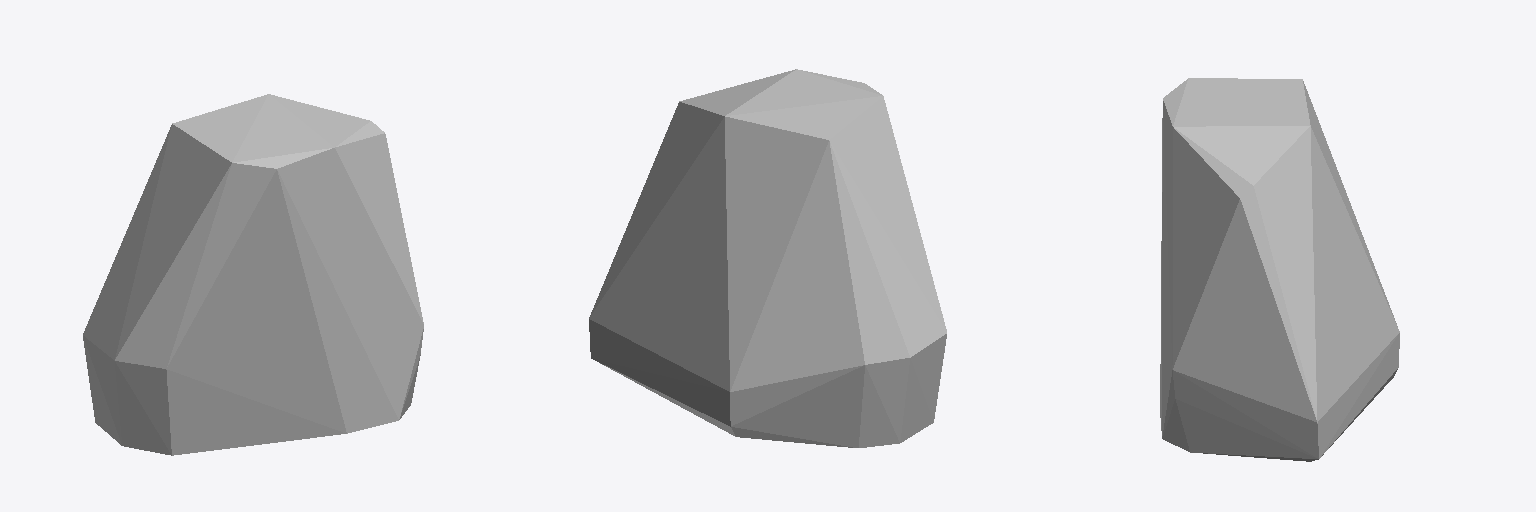
Rendered from raw_model_collision_0.obj.
3 renders of one model, left to right at view 1: azimuth 30°, elevation 25°; view 2: azimuth 150°, elevation 25°; view 3: azimuth 270°, elevation 25°, orthographic.
Bounding box in the file's own units: 0.144 × 0.1235 × 0.0932.